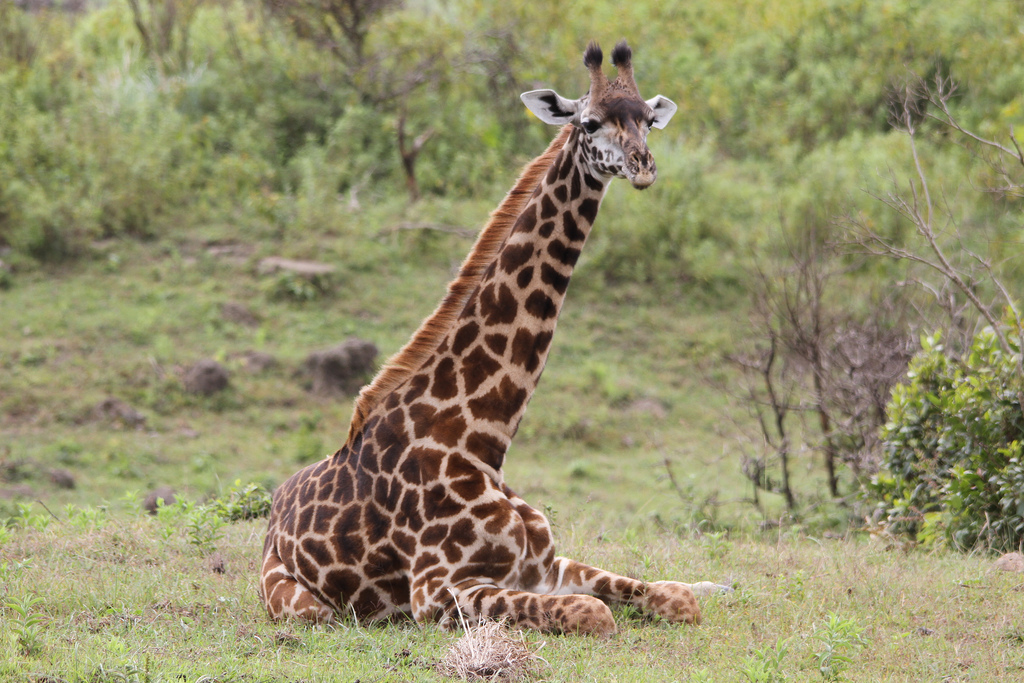giraffe: (275, 41, 737, 662)
